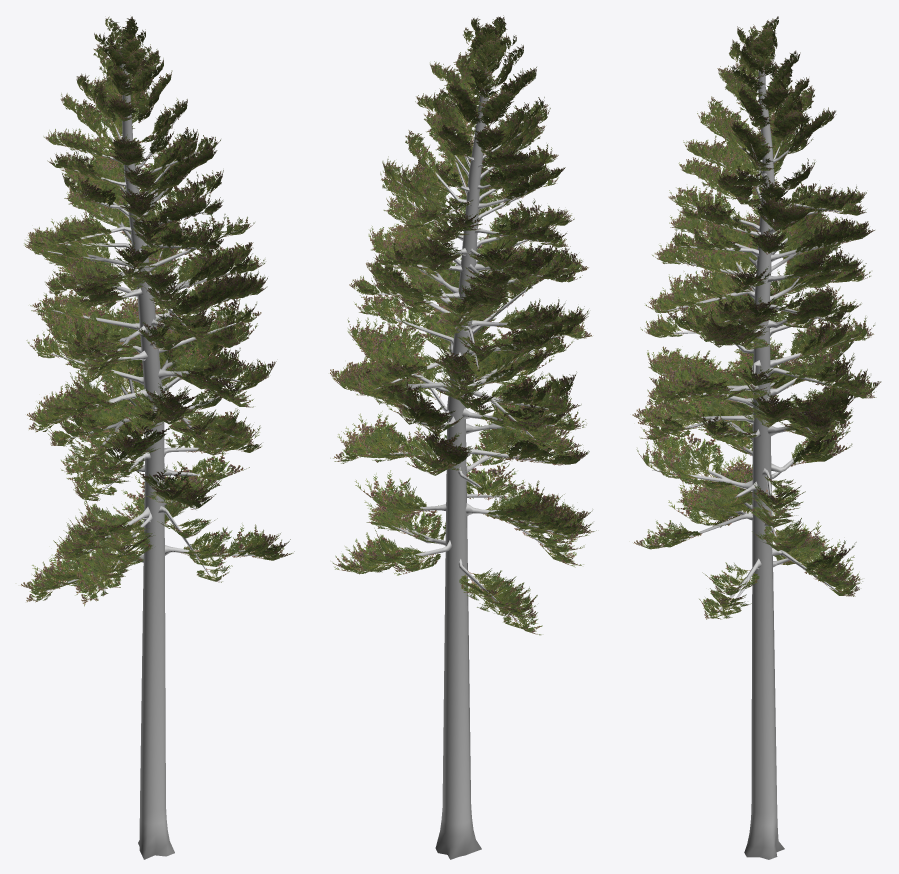
The model's file is RedCedar_Short_mdl.fbx.
3 renders of one model, left to right at view 1: azimuth 30°, elevation 25°; view 2: azimuth 150°, elevation 25°; view 3: azimuth 270°, elevation 25°, orthographic. The views are drawn at different scales.
Parts seen in each view (by area): view 1: RedCedar_Short_LOD0; view 2: RedCedar_Short_LOD0; view 3: RedCedar_Short_LOD0.
Boxes of the visible parts, x1=… form: RedCedar_Short_LOD0: x1=21, y1=16, x2=294, y2=859; RedCedar_Short_LOD0: x1=330, y1=15, x2=596, y2=859; RedCedar_Short_LOD0: x1=632, y1=16, x2=881, y2=859.
Size of the model in its own units: 891 by 2972 by 846.
